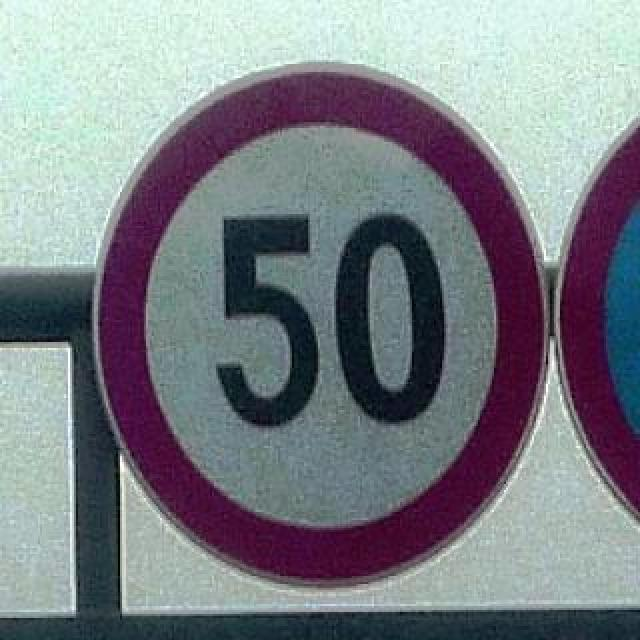50 kph: (88, 64, 548, 590)
